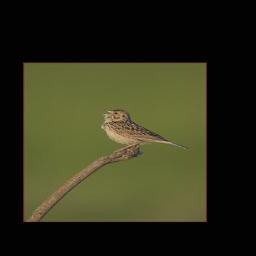Sparrow: (101, 109, 191, 154)
